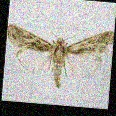Spodoptera litura: (4, 17, 111, 89)
